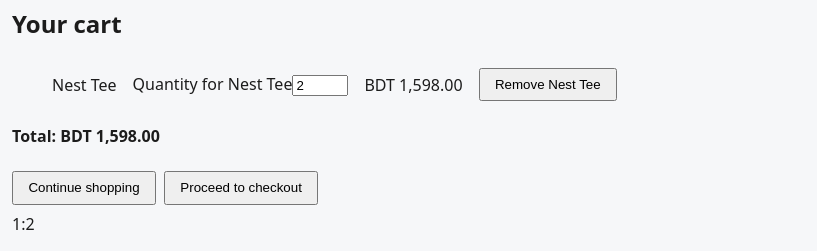
QuantityInput inside the cart › F6: a fractional value is not committed, and leaving the field restores the last good value
# Pasting "1.5" in one go avoids the intermediate "1" that typing character by character would commit.
Clear the number field labelled "Quantity for Nest Tee" at (320, 86), box top-left (292, 75), bottom-right (348, 96)
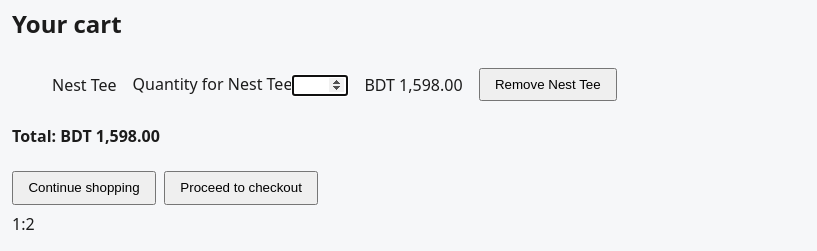
Type keys "1.5"
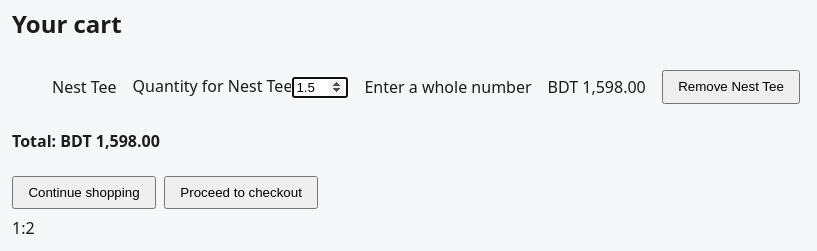
Now the text "Enter a whole number" is shown, box top-left (364, 76), bottom-right (532, 98)
Press Tab
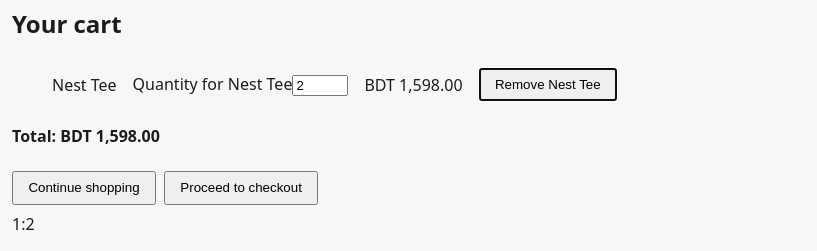
Now the number field labelled "Quantity for Nest Tee" holds "2", box top-left (292, 75), bottom-right (348, 96)
